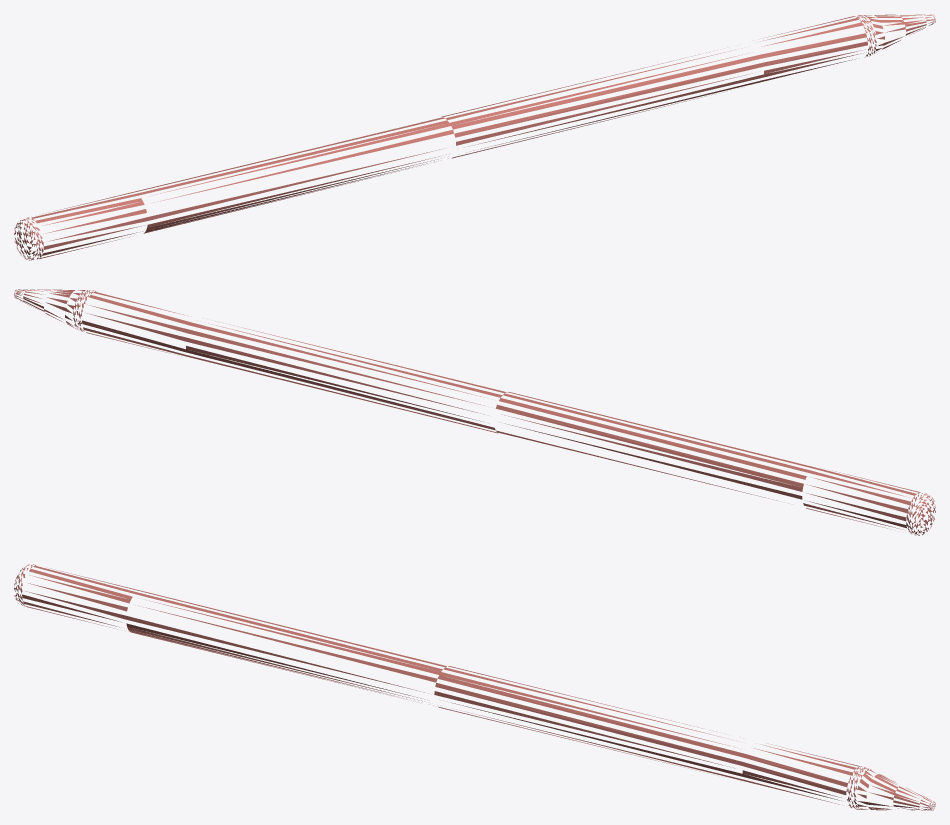
Rendered from stationery_pencil_watercolor_white_a01.glb.
The picture shows the model from 3 angles, top to bottom: view 1: azimuth 30°, elevation 25°; view 2: azimuth 150°, elevation 25°; view 3: azimuth 330°, elevation 25°; orthographic projection.
Visible parts, largest first — view 1: geometry_0; view 2: geometry_0; view 3: geometry_0.
Boxes of the visible parts, left/top/right/bottom form: geometry_0: left=14, top=14, right=935, bottom=260; geometry_0: left=14, top=289, right=935, bottom=535; geometry_0: left=14, top=564, right=935, bottom=810.
Size of the model in its own units: 0.48 by 0.0197 by 0.0197.
